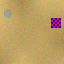person: (3, 8, 11, 17)
